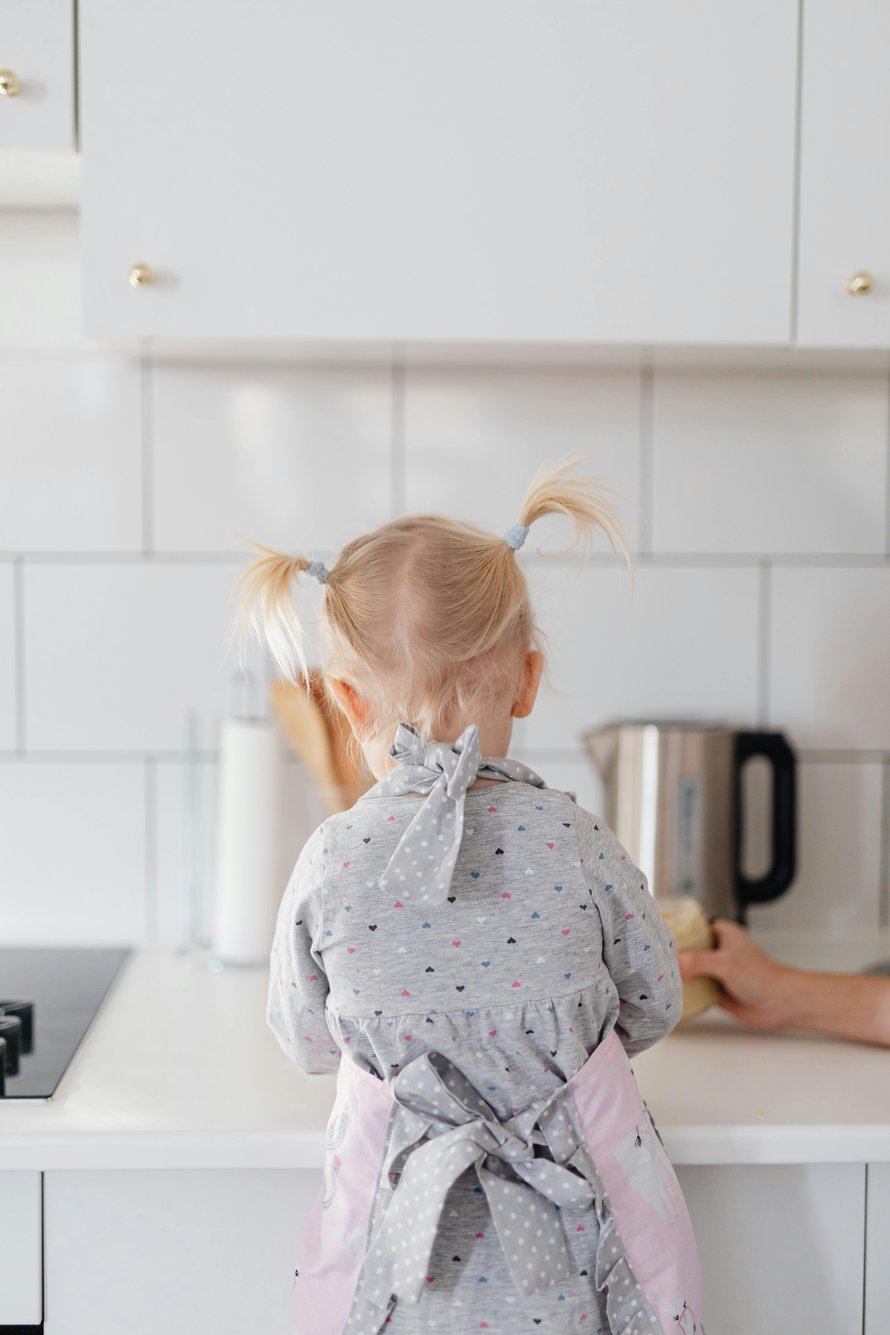Human: (191, 443, 744, 1335)
